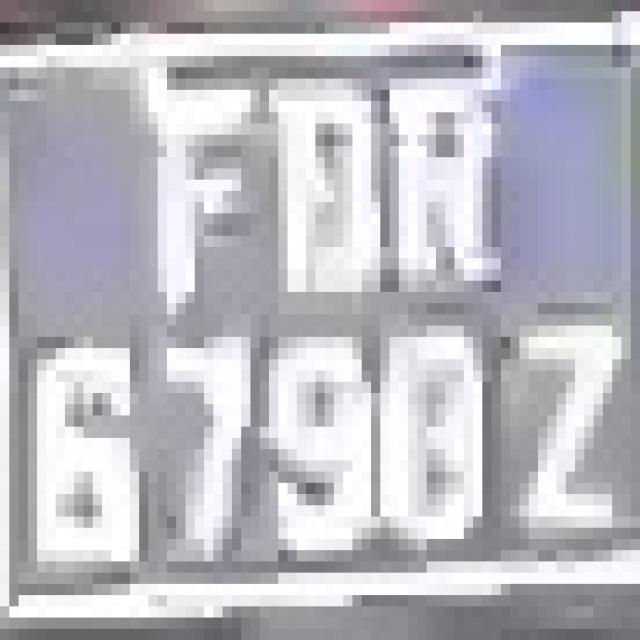6: (10, 326, 148, 595)
7: (139, 292, 260, 595)
8: (371, 314, 510, 539)
9: (232, 326, 380, 550)
B: (250, 56, 380, 292)
F: (130, 45, 260, 326)
R: (371, 56, 519, 326)
Z: (482, 292, 631, 584)
